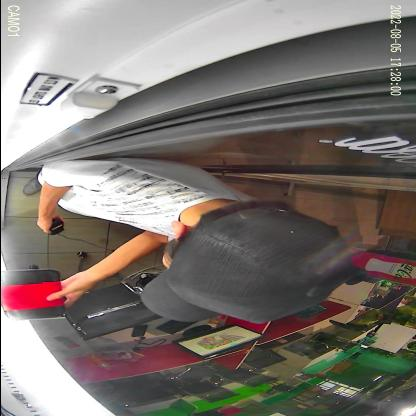red: (0, 268, 65, 320)
